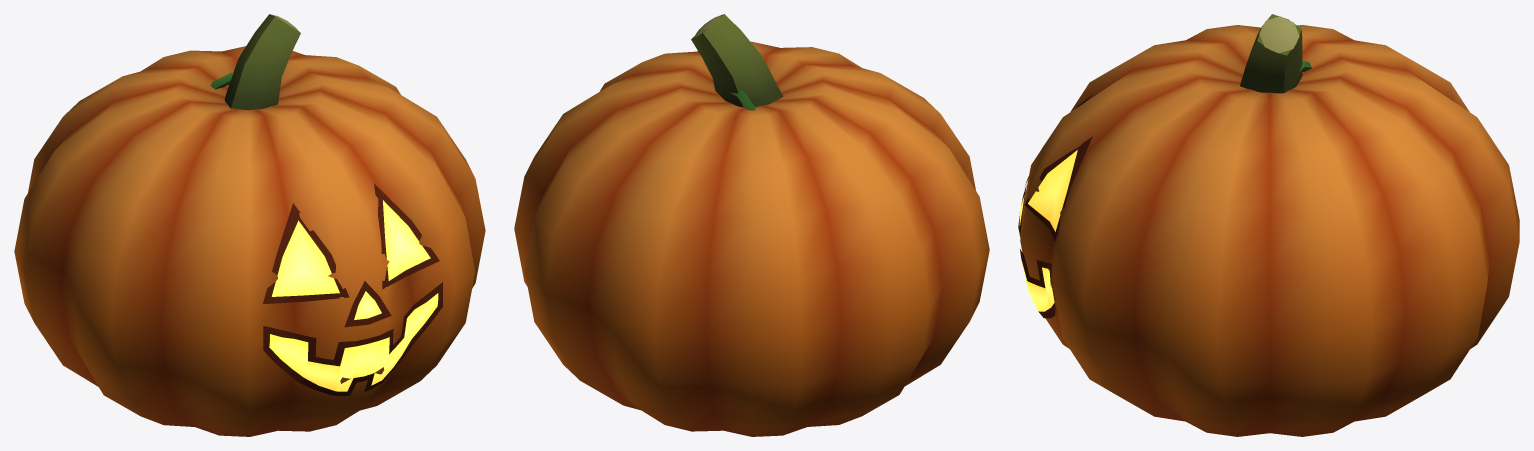
The model's file is pumpkin.glb.
The picture shows the model from 3 angles, left to right: view 1: azimuth 30°, elevation 25°; view 2: azimuth 150°, elevation 25°; view 3: azimuth 270°, elevation 25°; orthographic projection. The views are drawn at different scales.
Parts seen in each view (by area): view 1: pumpkin; view 2: pumpkin; view 3: pumpkin.
Boxes of the visible parts, bbox=[...] form: pumpkin: bbox=[14, 14, 485, 436]; pumpkin: bbox=[514, 14, 989, 436]; pumpkin: bbox=[1018, 14, 1519, 436].
Size of the model in its own units: 0.7196 by 0.6362 by 0.7347.
